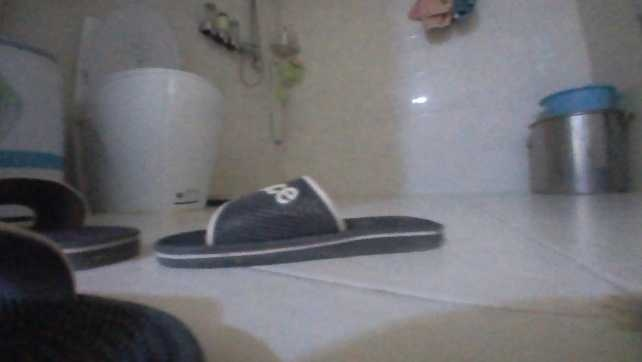slipper: (149, 172, 446, 271), (0, 175, 145, 273)
toilet: (75, 5, 230, 218)
